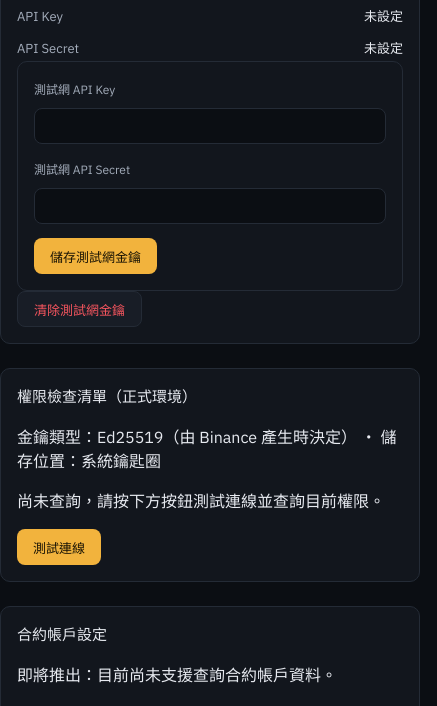
Test: Settings › 測試連線失敗時顯示錯誤訊息，不畫出假權限清單
The width and height of the screenshot is (437, 706).
(page scrolled)
Click the button "測試連線".
click(59, 547)  # box [17,529,101,565]
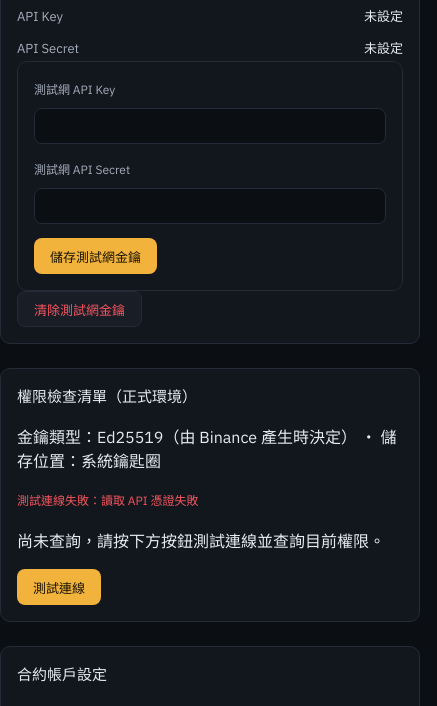
Expected: the text "尚未查詢，請按下方按鈕測試連線並查詢目前權限。" is shown, [17,529,403,553]
Expected: the message shows "測試連線失敗", [17,493,101,508]
